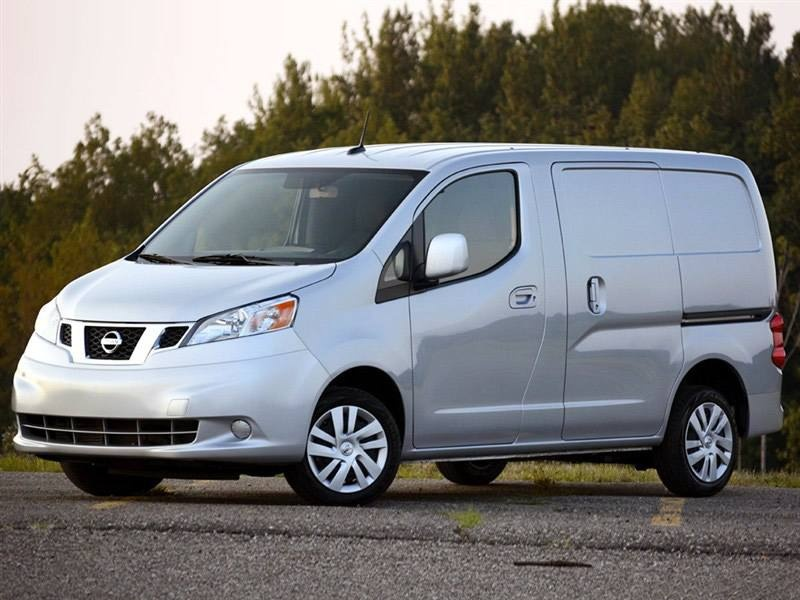minibus: (27, 109, 794, 504)
